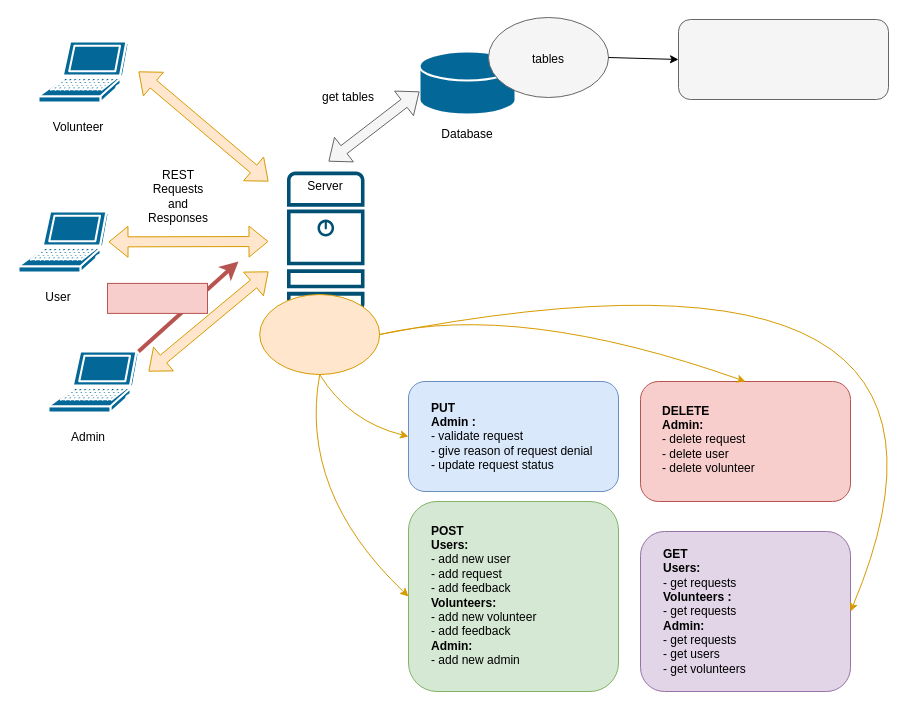
The diagram is 906 pixels wide and 709 high, and some of its shapes have lost their labels. Each missing label, with the box of its shape:
- Users - Volunteers - Admins - requests: (678, 18, 888, 100)
Admin authentication: (106, 282, 208, 313)
REST API: (259, 294, 380, 374)
